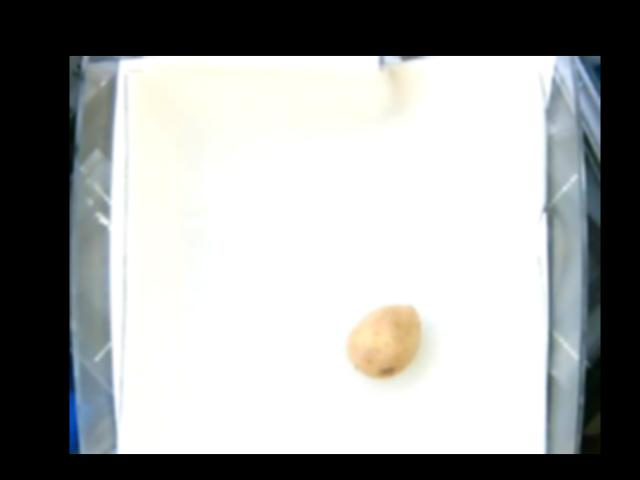Potato: (346, 305, 418, 378)
